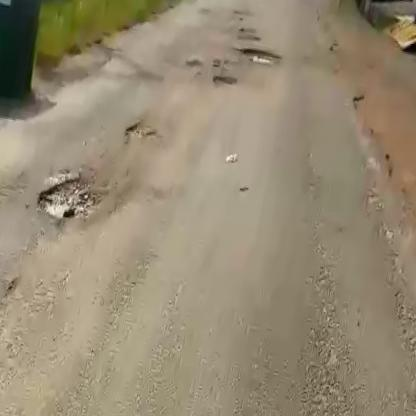pothole: (31, 162, 110, 235), (121, 124, 161, 151), (237, 41, 279, 64), (212, 70, 241, 94)
